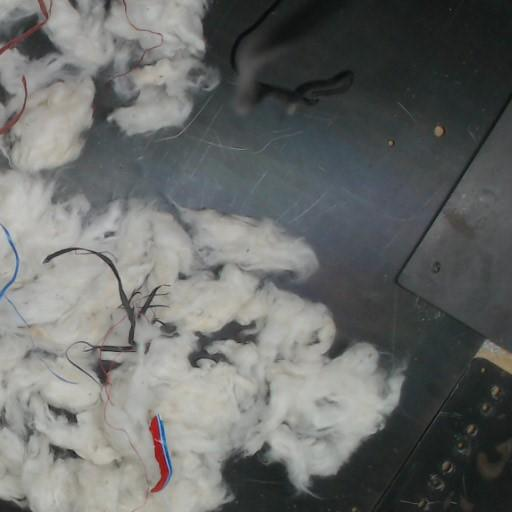cotton: (0, 0, 403, 511)
packet: (149, 415, 172, 492)
thread: (42, 246, 175, 389), (0, 221, 46, 349), (104, 0, 164, 63), (0, 0, 54, 58), (0, 76, 30, 163), (149, 448, 170, 492)
